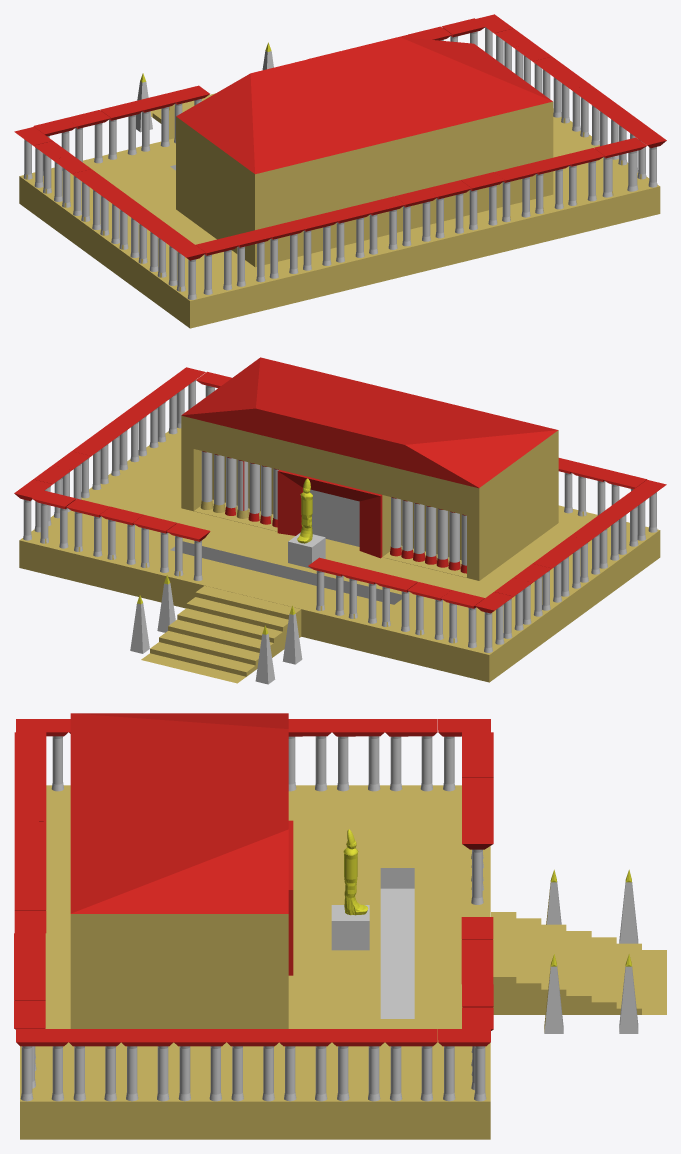
The model's file is Palace.fbx.
3 views of the same model, one above another, from view 1: azimuth 30°, elevation 25°; view 2: azimuth 150°, elevation 25°; view 3: azimuth 270°, elevation 25° (orthographic). The views are drawn at different scales.
Parts seen in each view (by area): view 1: Cube.000; view 2: Cube.000; view 3: Cube.000.
Part boxes in pixels (left/top/right/bottom): Cube.000: left=14, top=14, right=666, bottom=328; Cube.000: left=14, top=357, right=666, bottom=684; Cube.000: left=14, top=713, right=666, bottom=1139.
Bounding box in the file's own units: 72.49 × 21.49 × 61.86.
